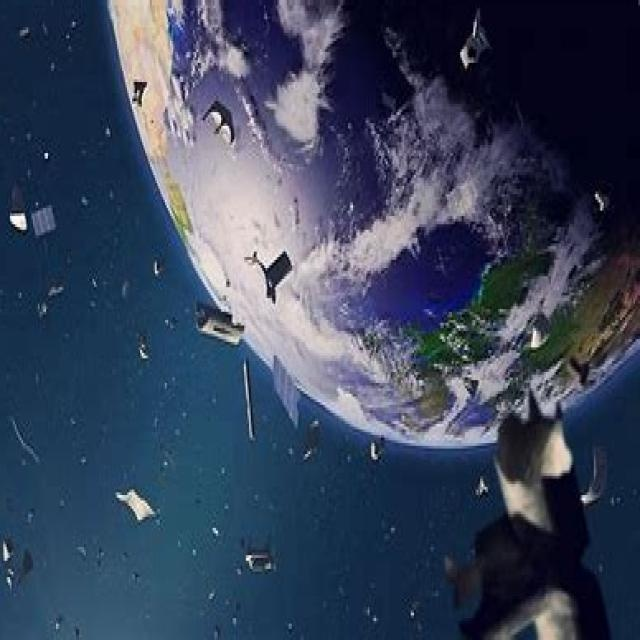large_debris: (445, 377, 627, 640)
medium_debris: (451, 0, 492, 80), (266, 351, 301, 421), (182, 304, 250, 340), (237, 533, 282, 585), (121, 482, 156, 531), (202, 104, 236, 145), (27, 204, 54, 234), (589, 181, 611, 217)
small_debris: (71, 536, 89, 568), (135, 329, 150, 364), (204, 518, 223, 545), (4, 409, 22, 436), (301, 438, 318, 466), (46, 609, 65, 634), (17, 551, 31, 581), (47, 276, 64, 300), (368, 435, 382, 461), (154, 447, 168, 472), (16, 20, 32, 40), (161, 310, 175, 332), (150, 252, 162, 276), (210, 620, 223, 640), (40, 146, 52, 165), (102, 124, 113, 141)
